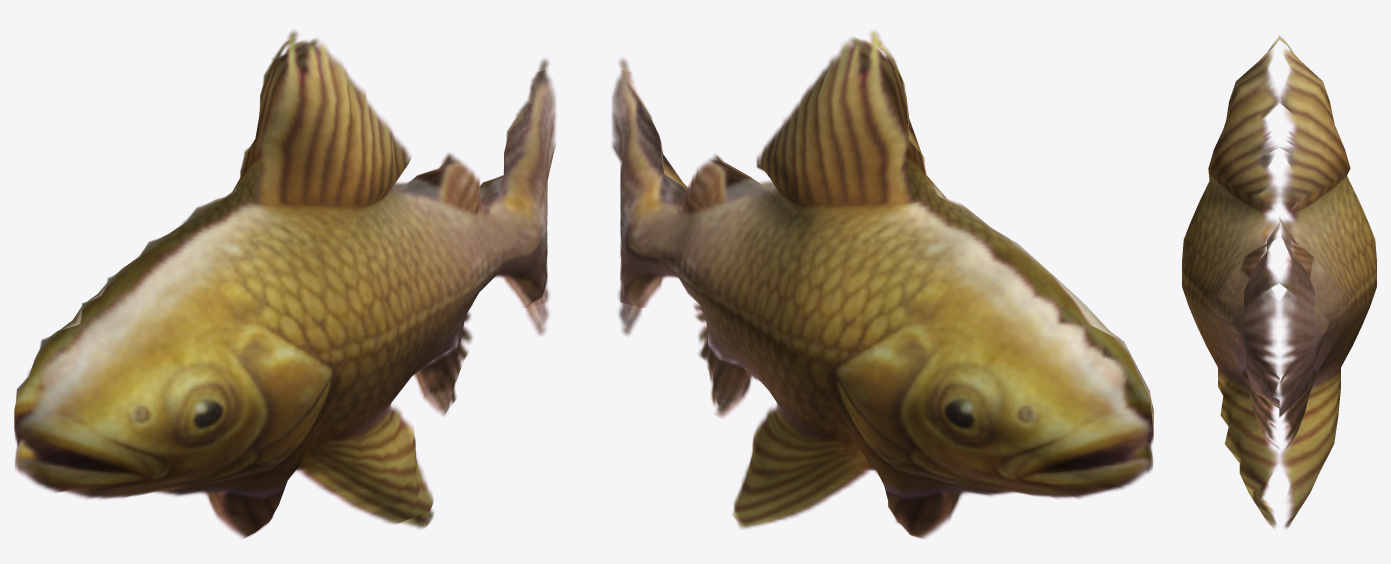
The model's file is fish_goldscale.glb.
3 views of the same model, side by side, from view 1: azimuth 30°, elevation 25°; view 2: azimuth 150°, elevation 25°; view 3: azimuth 270°, elevation 25° (orthographic). The views are drawn at different scales.
Visible parts, largest first — view 1: fish_goldscale; view 2: fish_goldscale; view 3: fish_goldscale.
Part boxes in pixels (left/top/right/bottom): fish_goldscale: left=14, top=30, right=555, bottom=538; fish_goldscale: left=612, top=30, right=1153, bottom=538; fish_goldscale: left=1182, top=36, right=1376, bottom=528.
Bounding box in the file's own units: 0.4006 × 0.3847 × 0.144.
1 material, 1 textured.
